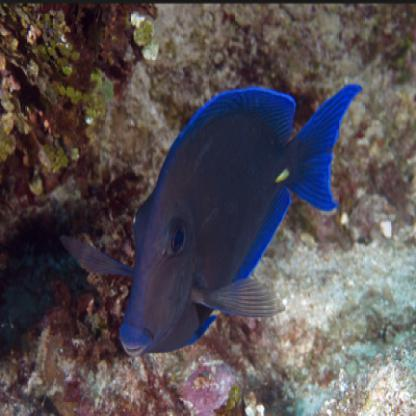Bio: (59, 81, 364, 358)
